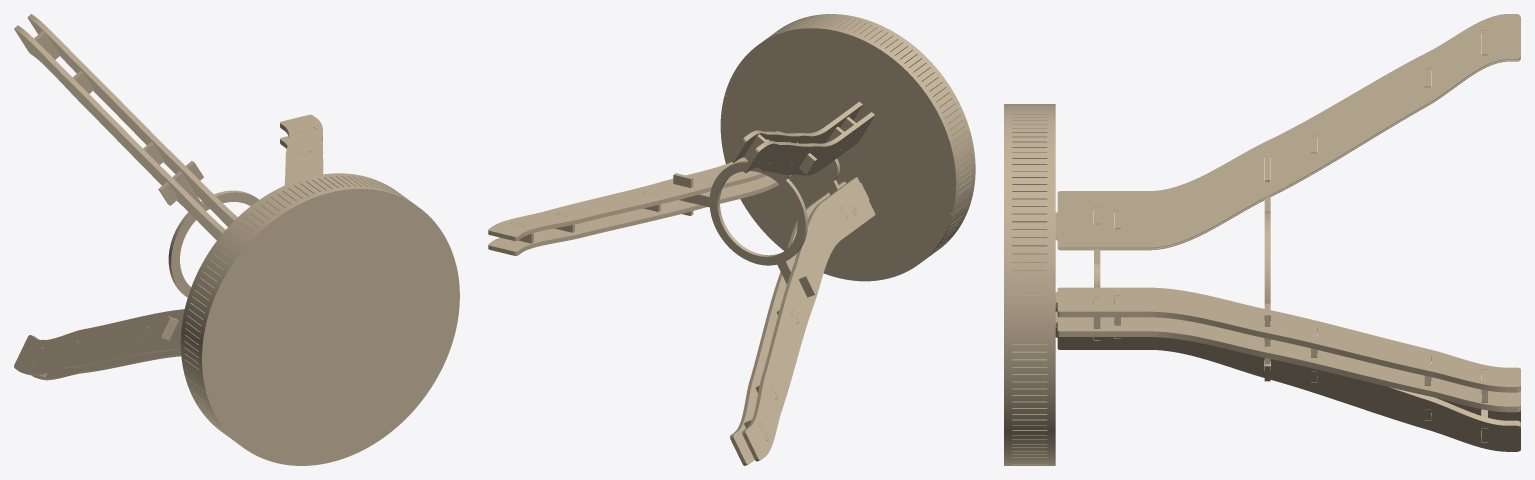
The model's file is assembly-DESIGN_ONLY.glb.
The picture shows the model from 3 angles, left to right: view 1: azimuth 30°, elevation 25°; view 2: azimuth 150°, elevation 25°; view 3: azimuth 270°, elevation 25°; orthographic projection. The views are drawn at different scales.
Parts seen in each view (by area): view 1: P07T, P07R1, L3_P01_1, L2_P01_2, L2_P01_1, P06_BONDED, L1_P01_2, P07R2, L3_P01_2; view 2: P07B, L3_P01_1, P07R1, L1_P01_2, P06_BONDED, L1_P01_1, L2_P01_2, L3_P01_2, P07R2, L2_P01_1, P03; view 3: L2_P01_1, L1_P01_2, P07R1, L3_P01_2, L1_P01_1, P07R2, P06_BONDED, L2_P01_2, P03, L3_P01_1.
Boxes of the visible parts, left/top/right/bottom form: P07T: left=205, top=192, right=456, bottom=462; P07R1: left=180, top=173, right=455, bottom=392; L3_P01_1: left=14, top=309, right=184, bottom=375; L2_P01_2: left=14, top=25, right=225, bottom=240; L2_P01_1: left=27, top=14, right=237, bottom=226; P06_BONDED: left=158, top=161, right=258, bottom=340; L1_P01_2: left=280, top=114, right=323, bottom=185; P07R2: left=185, top=262, right=459, bottom=465; L3_P01_2: left=31, top=339, right=181, bottom=380; P07B: left=723, top=31, right=953, bottom=278; L3_P01_1: left=742, top=177, right=875, bottom=461; P07R1: left=724, top=14, right=975, bottom=213; L1_P01_2: left=488, top=131, right=783, bottom=241; P06_BONDED: left=673, top=142, right=817, bottom=297; L1_P01_1: left=488, top=175, right=791, bottom=255; L2_P01_2: left=742, top=112, right=874, bottom=175; L3_P01_2: left=730, top=181, right=845, bottom=465; P07R2: left=720, top=95, right=971, bottom=281; L2_P01_1: left=730, top=101, right=862, bottom=162; P03: left=809, top=116, right=856, bottom=214; L2_P01_1: left=1055, top=14, right=1520, bottom=248; L1_P01_2: left=1016, top=287, right=1520, bottom=392; P07R1: left=1004, top=104, right=1055, bottom=316; L3_P01_2: left=1055, top=321, right=1520, bottom=451; L1_P01_1: left=1055, top=311, right=1520, bottom=412; P07R2: left=1004, top=262, right=1055, bottom=465; P06_BONDED: left=1264, top=154, right=1270, bottom=381; L2_P01_2: left=1055, top=31, right=1520, bottom=250; P03: left=1094, top=207, right=1100, bottom=340; L3_P01_1: left=1055, top=301, right=1520, bottom=429.
Size of the model in its own units: 0.437 by 0.4673 by 0.5.
